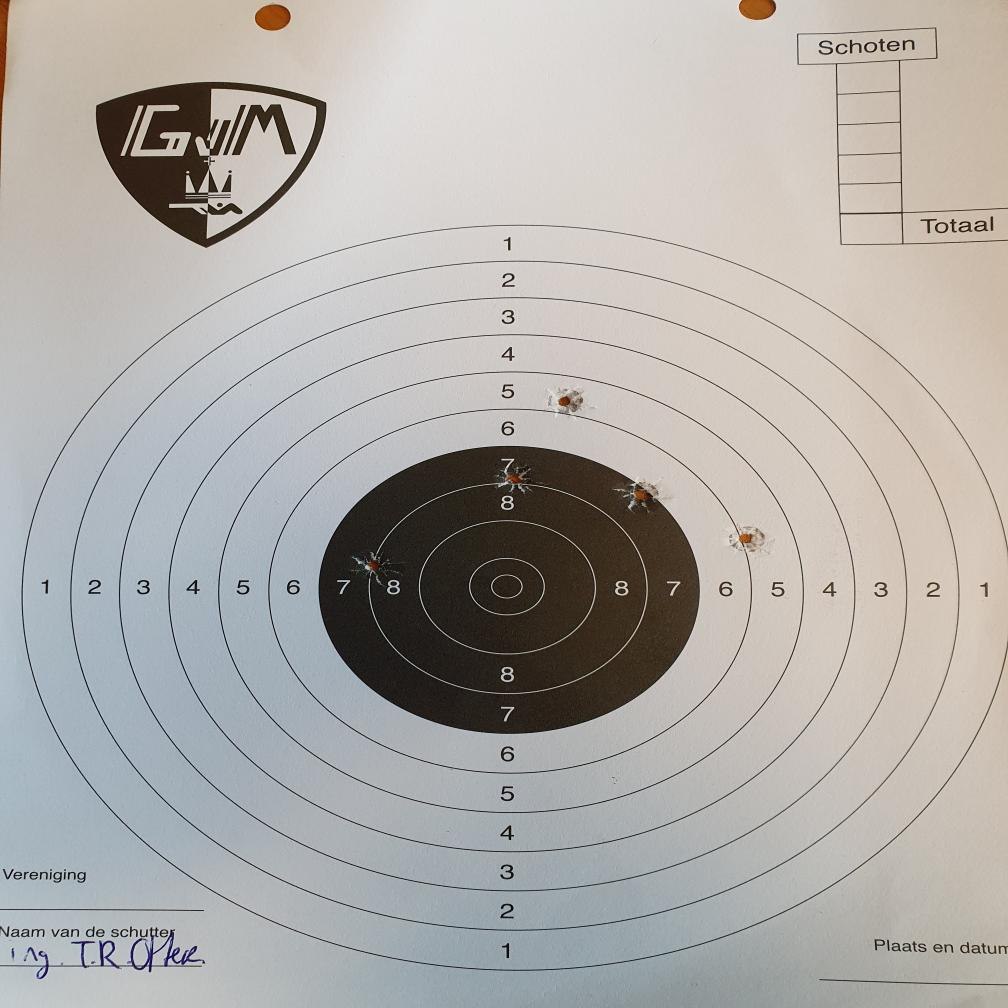6: (544, 385, 594, 421), (724, 524, 772, 553)
7: (610, 478, 671, 513)
8: (350, 549, 402, 586), (490, 462, 537, 496)
Target: (22, 225, 1008, 972)
black_contour: (321, 446, 700, 734)
